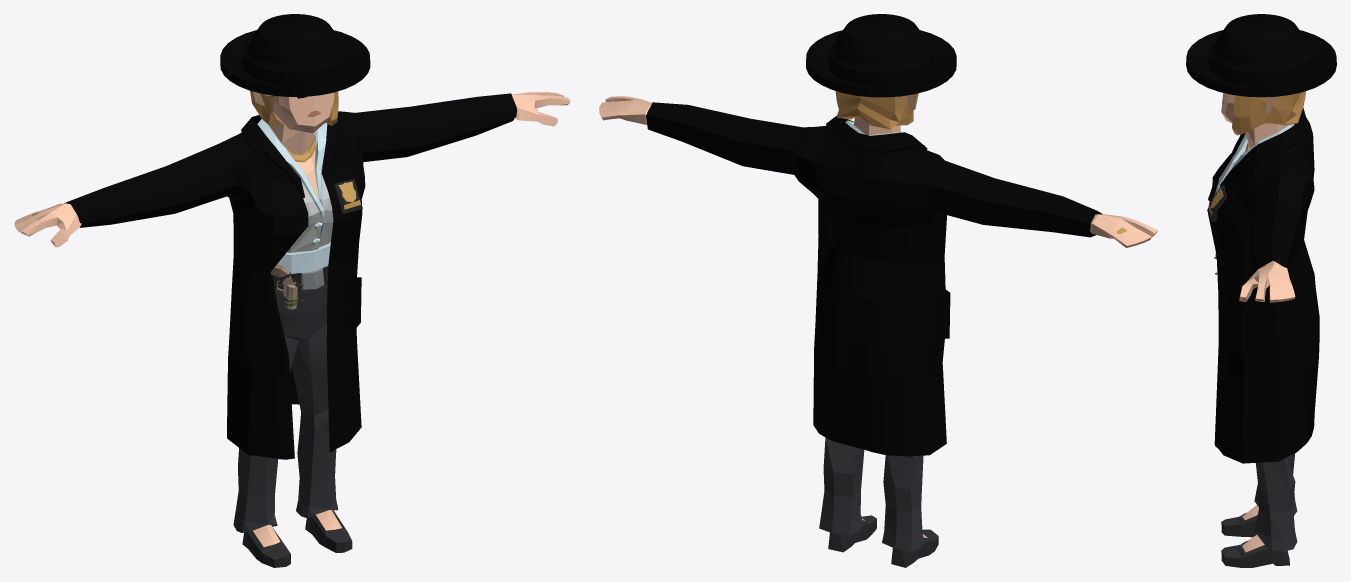
File: dedektif02.fbx
3 views of the same model, side by side, from view 1: azimuth 30°, elevation 25°; view 2: azimuth 150°, elevation 25°; view 3: azimuth 270°, elevation 25° (orthographic).
Parts seen in each view (by area): view 1: group1_SK_Chr_Boss_Female_01_SK_Chr_Boss_Female_01; view 2: group1_SK_Chr_Boss_Female_01_SK_Chr_Boss_Female_01; view 3: group1_SK_Chr_Boss_Female_01_SK_Chr_Boss_Female_01.
Part boxes in pixels (box(x1,y1,x2,y2)): group1_SK_Chr_Boss_Female_01_SK_Chr_Boss_Female_01: box(14, 14, 570, 567); group1_SK_Chr_Boss_Female_01_SK_Chr_Boss_Female_01: box(599, 14, 1157, 567); group1_SK_Chr_Boss_Female_01_SK_Chr_Boss_Female_01: box(1186, 14, 1336, 567).
Bounding box in the file's own units: 204 × 185 × 48.63.
